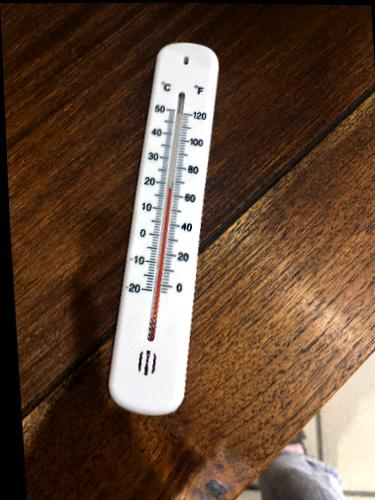thermo: (105, 38, 222, 415)
